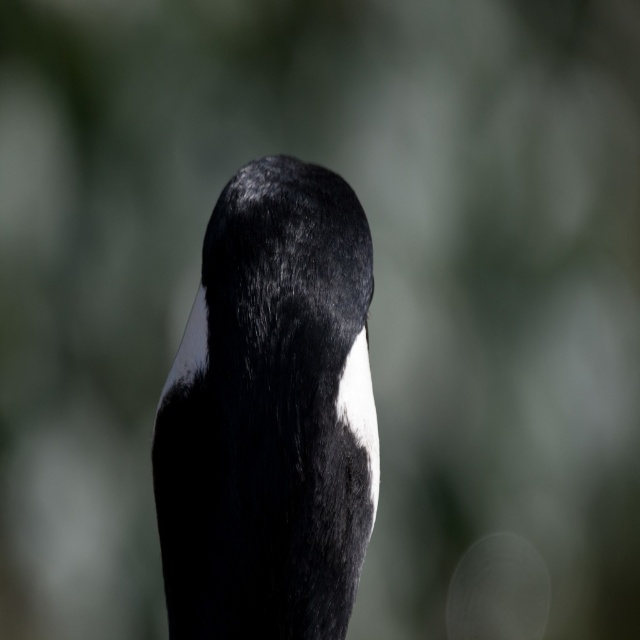Penguin: (150, 134, 395, 632)
